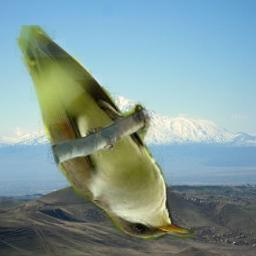Cuckoo: (14, 25, 195, 240)
